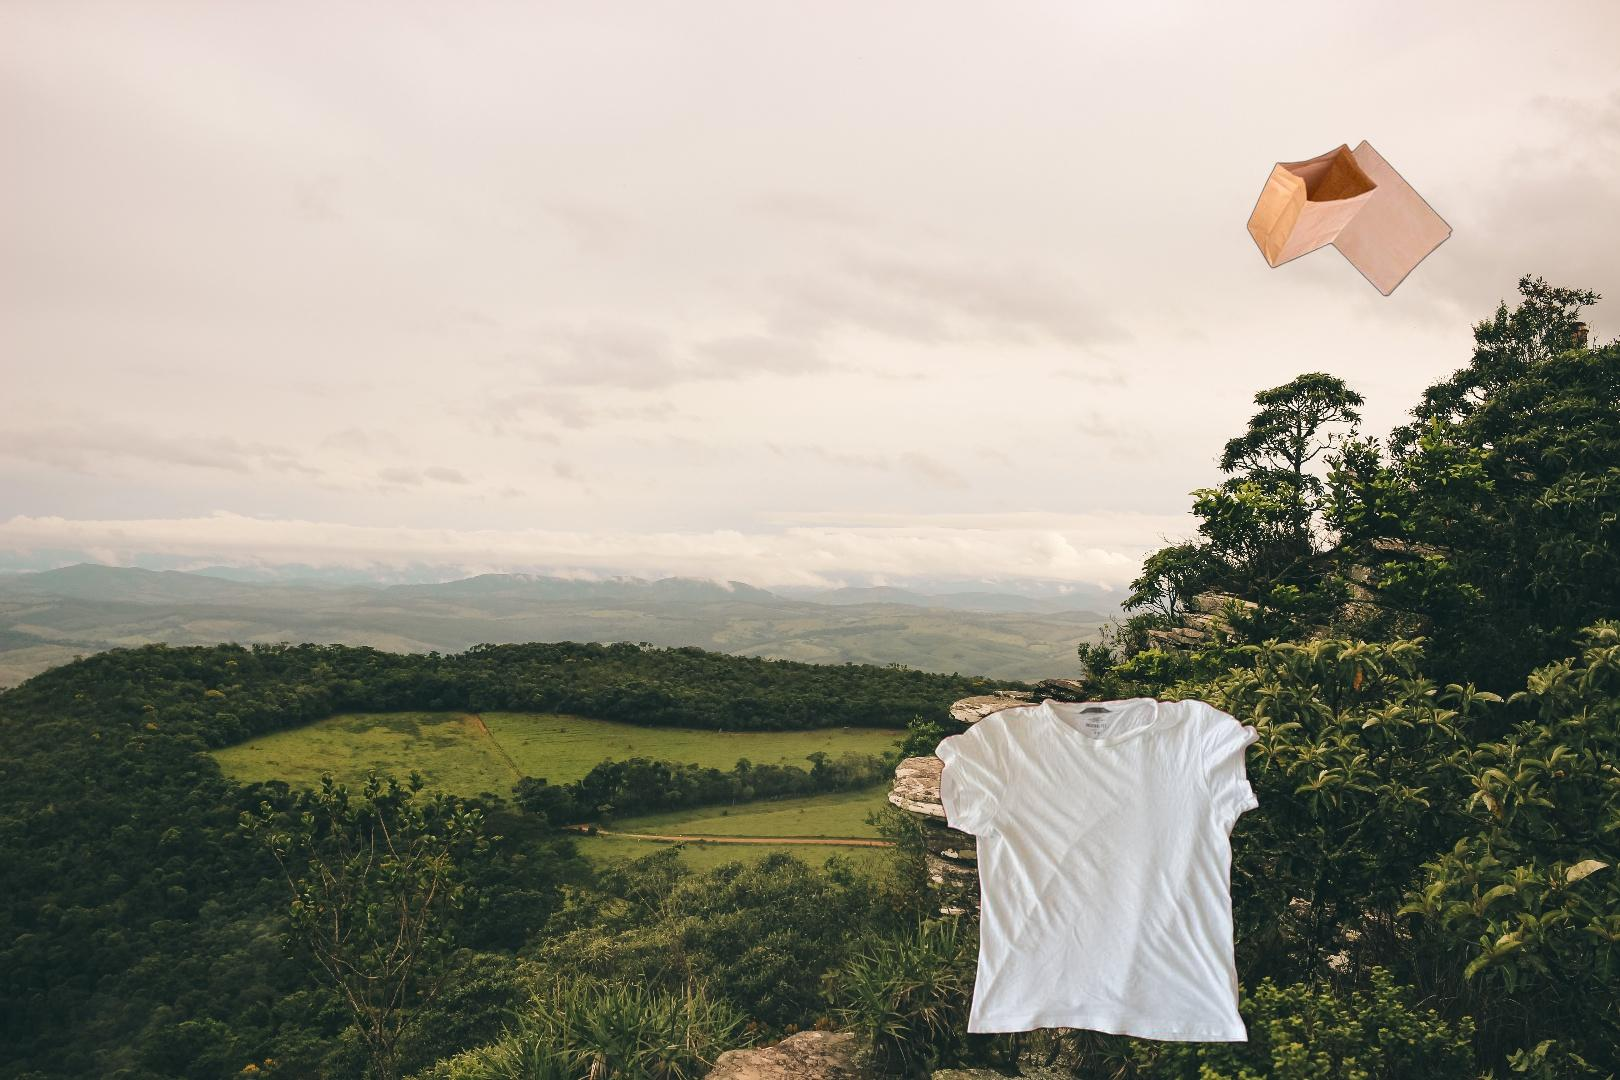clothes: (931, 691, 1264, 1047)
paper-bag: (1246, 137, 1455, 299)
